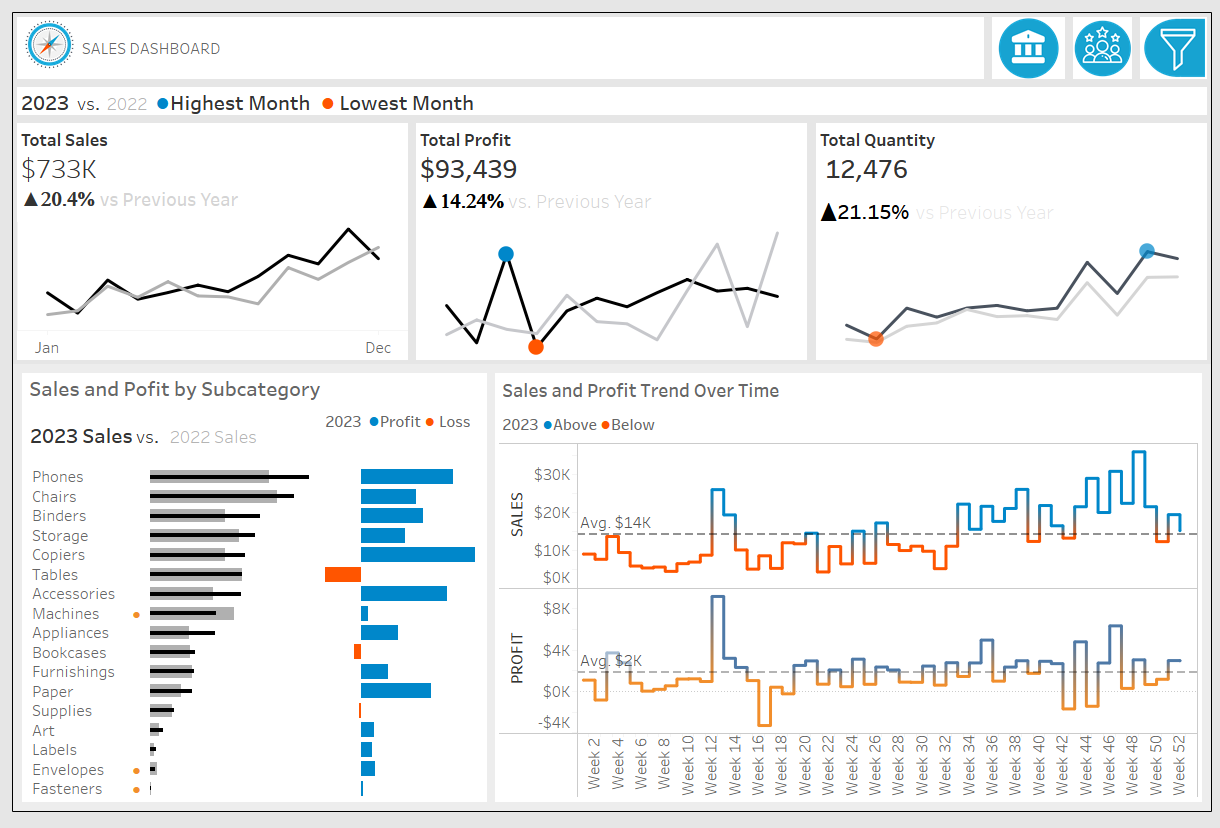

This screenshot's page, from the dashboard's own definition file:
{"tool":"tableau","page":{"name":"SALES DASHBOARD","canvas":[1200,800],"ordinal":0},"visuals":[{"type":"text","box":[1,1,975,69.8]},{"type":"dashboard-object","box":[976,1,81,69.8]},{"type":"dashboard-object","box":[1057,1,67,69.8]},{"type":"dashboard-object","box":[1124,1,75,69.8]},{"type":"image","param":"C:/Users/Nikhil/Downloads/Tableau/Project/TableauProject-SalesDashboard/Icons/Ic","box":[7,7,60,51]},{"type":"worksheet","title":"Legends KPI","mark":"Automatic","box":[1,70.8,1198,35.9]},{"type":"text","box":[929,77,263,26]},{"type":"parameter","param":"[Parameters].[Parameter 1]","box":[929,103,263,56]},{"type":"worksheet","title":"KPI SALES","mark":"Line","cols":["Order Date"],"box":[1,106.7,399.3,245.4]},{"type":"worksheet","title":"KPI PROFIT","mark":"Line","rows":["Calculation_315814954950144011"],"cols":["Order Date"],"box":[400.3,106.7,399.3,245.4]},{"type":"worksheet","title":"KPI QUANTITY","mark":"Line","rows":["Calculation_1457477461214941185"],"cols":["Order Date"],"box":[799.7,106.7,399.3,245.4]},{"type":"text","box":[929,159,263,29]},{"type":"filter","title":"KPI SALES","param":"[federated.0zvdc4p1axqru71eylflu0l8y2dp].[none:Category:nk]","box":[929,188,263,61]},{"type":"filter","title":"KPI SALES","param":"[federated.0zvdc4p1axqru71eylflu0l8y2dp].[none:Sub-Category:nk]","box":[929,249,263,61]},{"type":"text","box":[929,310,263,29]},{"type":"filter","title":"KPI SALES","param":"[federated.0zvdc4p1axqru71eylflu0l8y2dp].[none:Country/Region:nk]","box":[929,339,263,61]},{"type":"text","box":[10,361.1,465,31]},{"type":"text","box":[483,361.1,706.9,33]},{"type":"text","box":[310,392,151,30]},{"type":"text","box":[483,394.1,706.9,33]},{"type":"worksheet","title":"Legends SubCategory ","mark":"Automatic","box":[10,395.7,465,55.3]},{"type":"filter","title":"KPI SALES","param":"[federated.0zvdc4p1axqru71eylflu0l8y2dp].[none:Region:nk]","box":[929,400,263,61]},{"type":"worksheet","title":"WEEKLY TRENDS","mark":"Line","rows":["Calculation_1780892208383127552","Calculation_315814954942369798"],"cols":["Order Date"],"box":[483,427.1,706.9,362.9]},{"type":"worksheet","title":"SALES AND PROFIT BY  SUB CATEGORY CHART","mark":"Bar","rows":["Sub-Category","Calculation_1166995285533589504"],"cols":["Year 2023 (copy)_1780892208384380929","Calculation_1780892208383127552","Profit"],"box":[10,451,465,339]},{"type":"filter","title":"KPI SALES","param":"[federated.0zvdc4p1axqru71eylflu0l8y2dp].[none:City:nk]","box":[929,461,263,61]}]}

Visuals, with their boxes in screenshot pixels (x1, y1, x2, y2), scaled from the page's 1200x800 canvas onto the 1220x828 screenshot:
text: detection(1, 1, 992, 73)
dashboard-object: detection(992, 1, 1075, 73)
dashboard-object: detection(1075, 1, 1143, 73)
dashboard-object: detection(1143, 1, 1219, 73)
image: detection(7, 7, 68, 60)
"Legends KPI" worksheet: detection(1, 73, 1219, 110)
text: detection(944, 80, 1212, 107)
parameter: detection(944, 107, 1212, 165)
"KPI SALES" worksheet (Line marks): detection(1, 110, 407, 364)
"KPI PROFIT" worksheet (Line marks): detection(407, 110, 813, 364)
"KPI QUANTITY" worksheet (Line marks): detection(813, 110, 1219, 364)
text: detection(944, 165, 1212, 195)
"KPI SALES" filter: detection(944, 195, 1212, 258)
"KPI SALES" filter: detection(944, 258, 1212, 321)
text: detection(944, 321, 1212, 351)
"KPI SALES" filter: detection(944, 351, 1212, 414)
text: detection(10, 374, 483, 406)
text: detection(491, 374, 1210, 408)
text: detection(315, 406, 469, 437)
text: detection(491, 408, 1210, 442)
"Legends SubCategory " worksheet: detection(10, 410, 483, 467)
"KPI SALES" filter: detection(944, 414, 1212, 477)
"WEEKLY TRENDS" worksheet (Line marks): detection(491, 442, 1210, 818)
"SALES AND PROFIT BY  SUB CATEGORY CHART" worksheet (Bar marks): detection(10, 467, 483, 818)
"KPI SALES" filter: detection(944, 477, 1212, 540)
